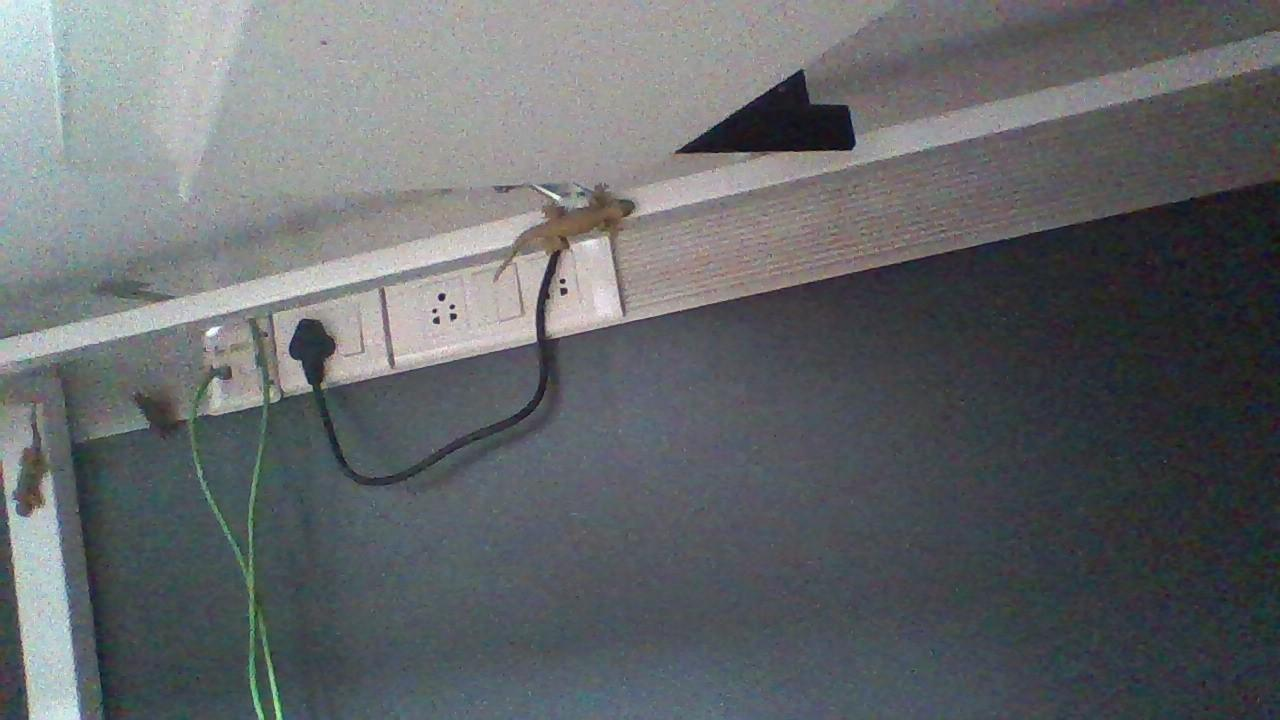cockroach: (123, 380, 188, 453)
lizard: (477, 179, 649, 285), (9, 387, 58, 535)
